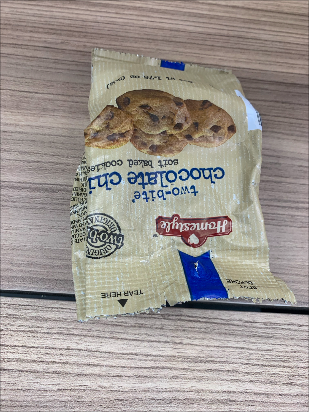Cookies_1-99g: (95, 96, 245, 286)
